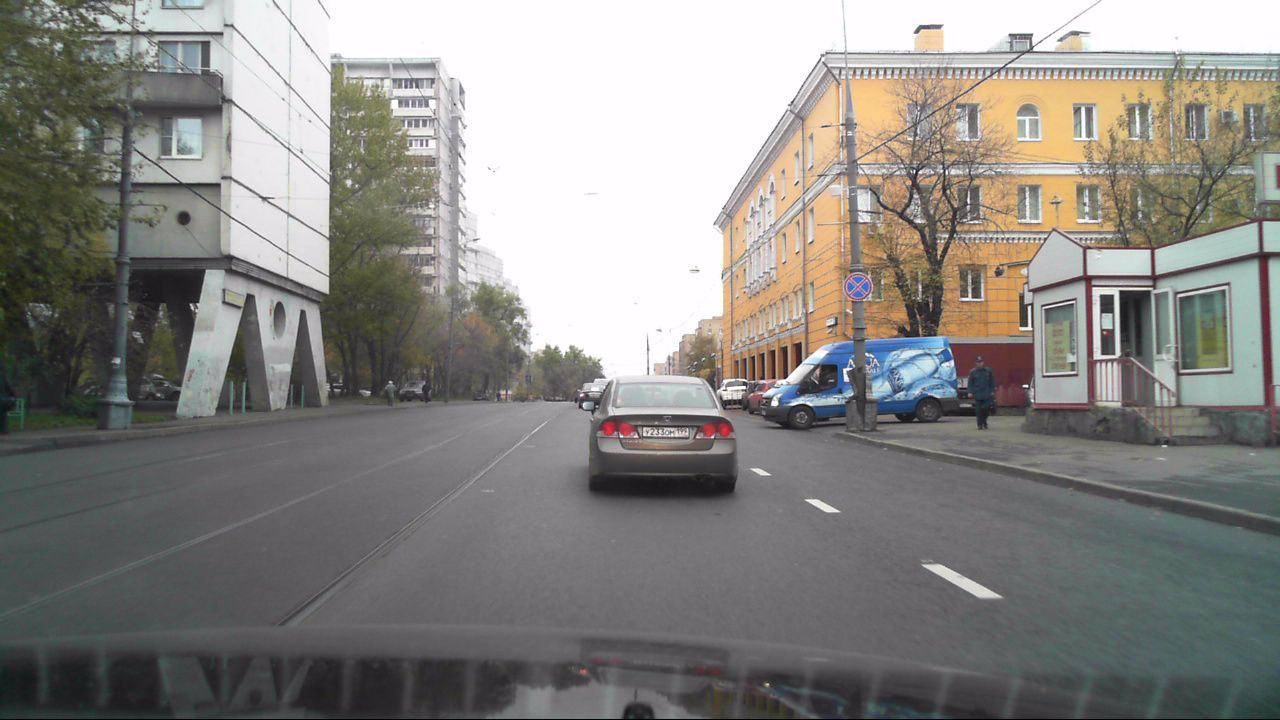No Parking: (844, 273, 873, 300)
